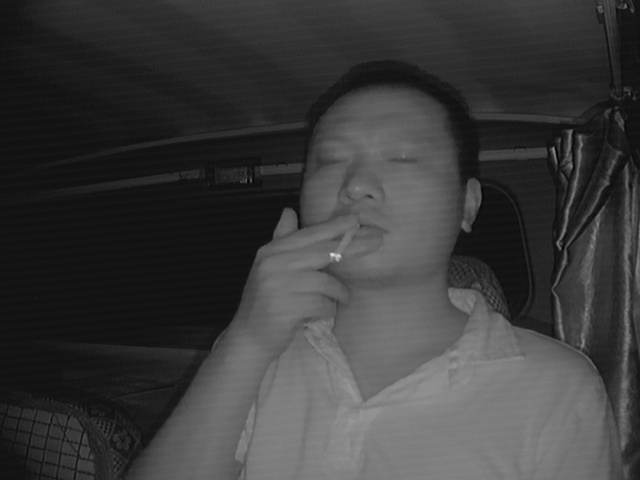hand: (237, 206, 370, 354)
